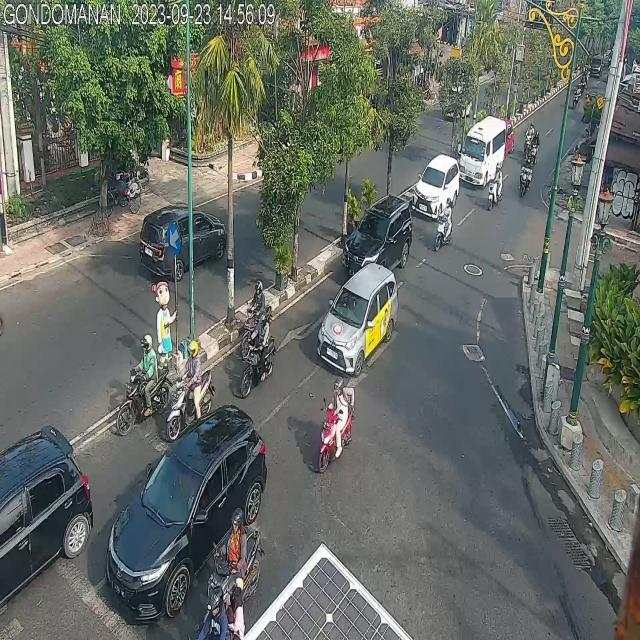bus: (458, 116, 507, 184)
car: (106, 401, 268, 621), (0, 422, 95, 603), (316, 261, 399, 375), (140, 201, 226, 281), (342, 195, 412, 278), (413, 155, 459, 219)
motorcycle: (204, 500, 260, 624), (114, 336, 171, 433), (167, 337, 216, 438), (318, 374, 356, 474), (240, 308, 276, 402), (241, 280, 272, 352), (435, 196, 453, 252), (487, 163, 504, 211), (520, 154, 532, 198), (524, 121, 535, 158), (530, 130, 540, 166)
